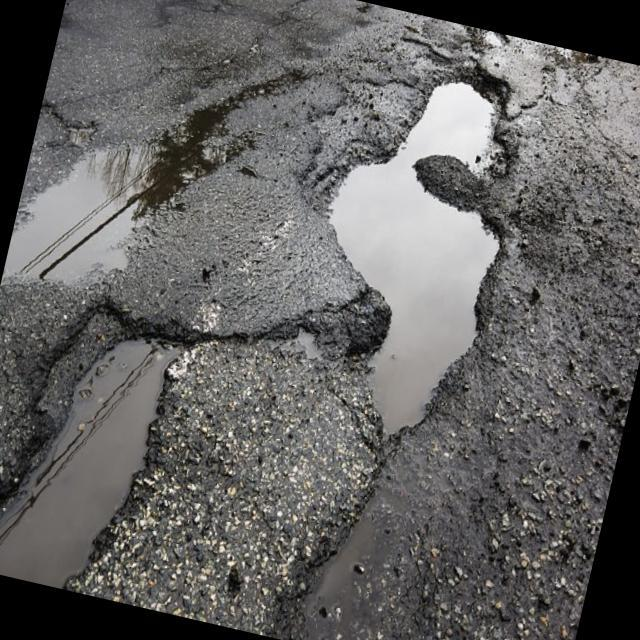Pothole: (248, 18, 616, 492), (0, 215, 273, 619), (229, 264, 355, 405)
